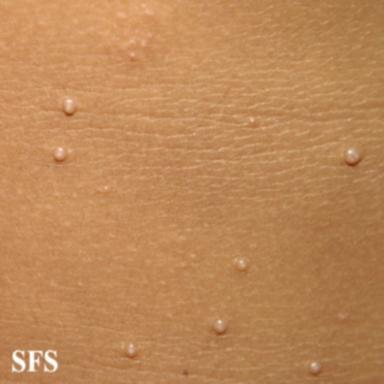Molluscum-Contagiosum: (345, 147, 361, 165), (62, 97, 77, 115), (53, 146, 67, 161), (213, 319, 227, 334), (309, 361, 322, 375), (236, 258, 247, 271), (127, 344, 137, 357)
